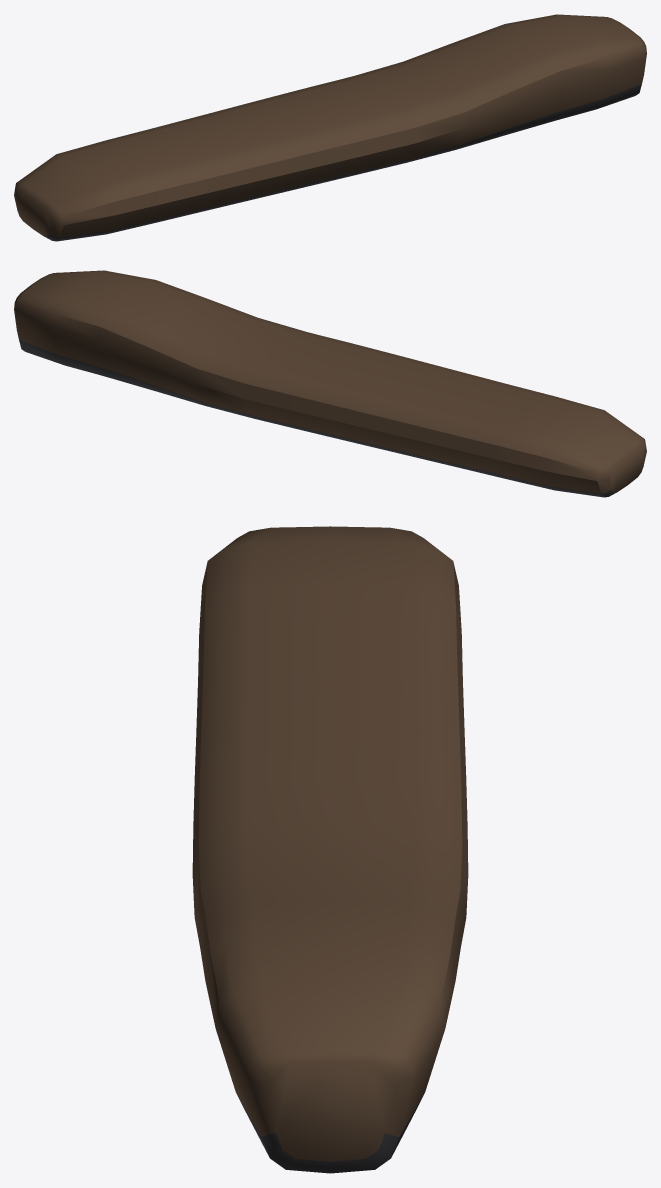
The model's file is enduro_lod1.glb.
3 views of the same model, one above another, from view 1: azimuth 30°, elevation 25°; view 2: azimuth 150°, elevation 25°; view 3: azimuth 270°, elevation 25° (orthographic). The views are drawn at different scales.
Parts seen in each view (by area): view 1: enduro_lod1; view 2: enduro_lod1; view 3: enduro_lod1.
Part boxes in pixels (x1=…): enduro_lod1: x1=14, y1=14, x2=646, y2=241; enduro_lod1: x1=14, y1=270, x2=646, y2=497; enduro_lod1: x1=192, y1=526, x2=468, y2=1173.
Bounding box in the file's own units: 1 × 0.1178 × 0.1999.
